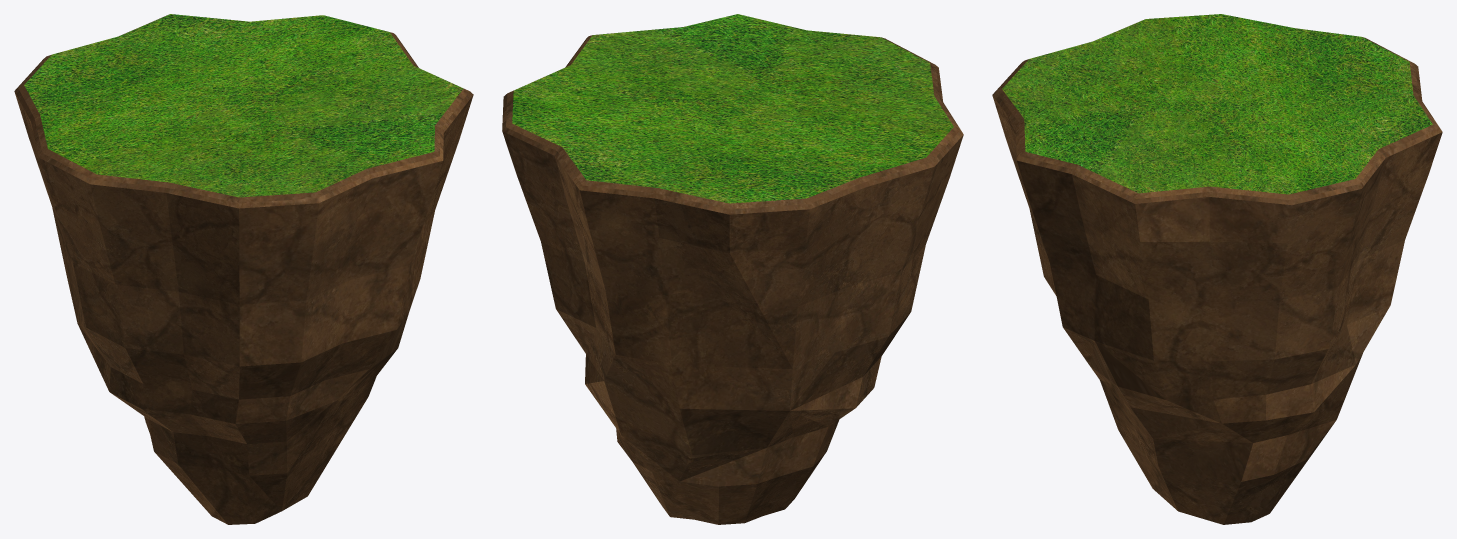
Rendered from platform2.fbx.
3 views of the same model, side by side, from view 1: azimuth 30°, elevation 25°; view 2: azimuth 150°, elevation 25°; view 3: azimuth 270°, elevation 25° (orthographic). The views are drawn at different scales.
Parts seen in each view (by area): view 1: ground2, erba2; view 2: ground2, erba2; view 3: ground2, erba2.
Boxes of the visible parts, x1,y1,x2,y2 form: ground2: (14, 15, 473, 524); erba2: (24, 14, 463, 197); ground2: (502, 35, 963, 524); erba2: (512, 14, 953, 203); ground2: (992, 19, 1442, 524); erba2: (1002, 14, 1432, 194).
Bounding box in the file's own units: 1709 × 1645 × 1725.
Materials: 2 (2 with a texture image).
